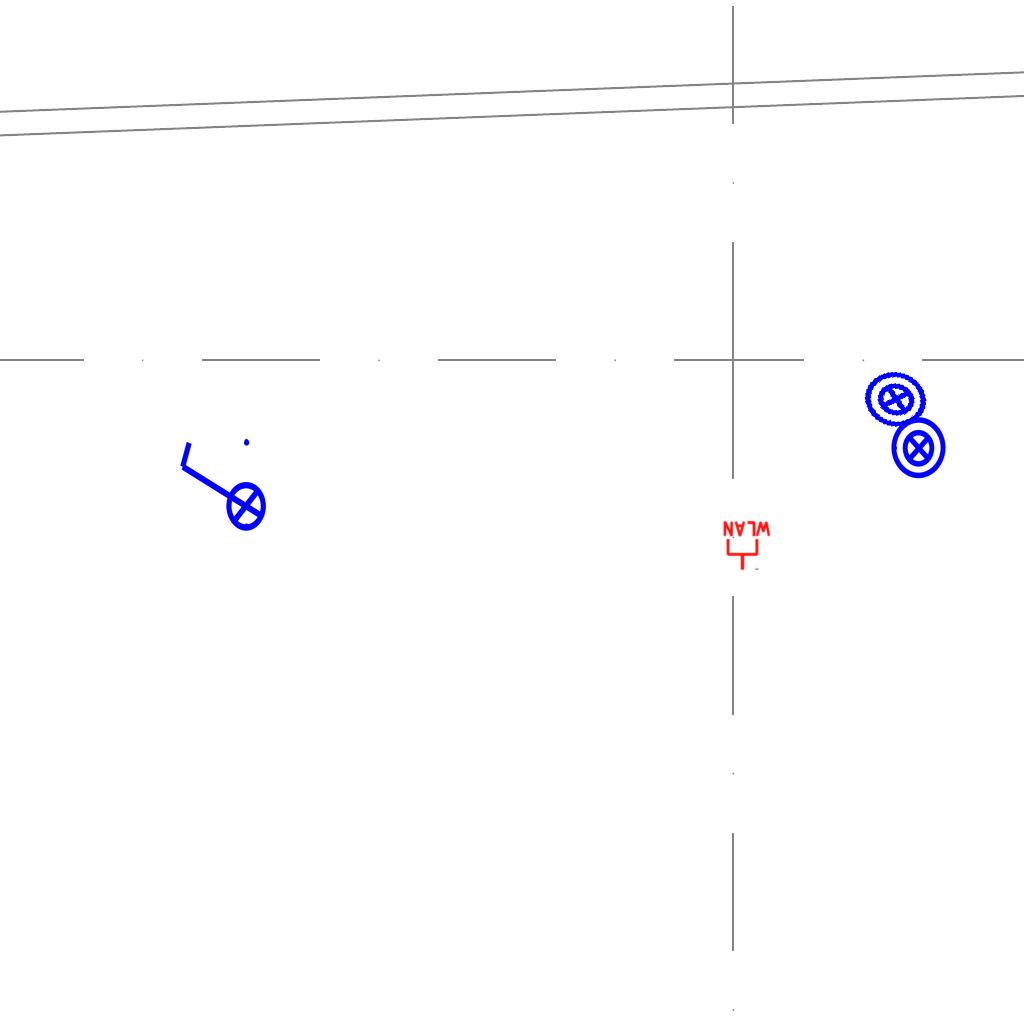Ausschalter_beleuchtet: (172, 433, 268, 545)
Taster_beleuchtet: (855, 358, 937, 440), (886, 415, 952, 481)
WLAN: (721, 520, 773, 572)
